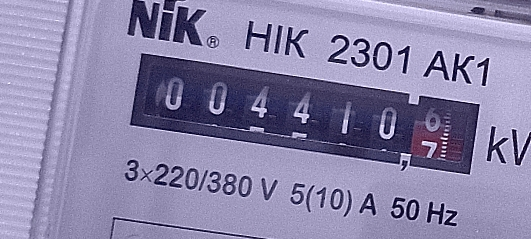0: (159, 72, 186, 112), (374, 103, 399, 141), (204, 77, 227, 117)
1: (335, 97, 353, 136)
4: (288, 86, 315, 128), (245, 79, 272, 120)
6: (422, 105, 443, 133)
7: (416, 137, 437, 159)
screen: (115, 38, 493, 188)
